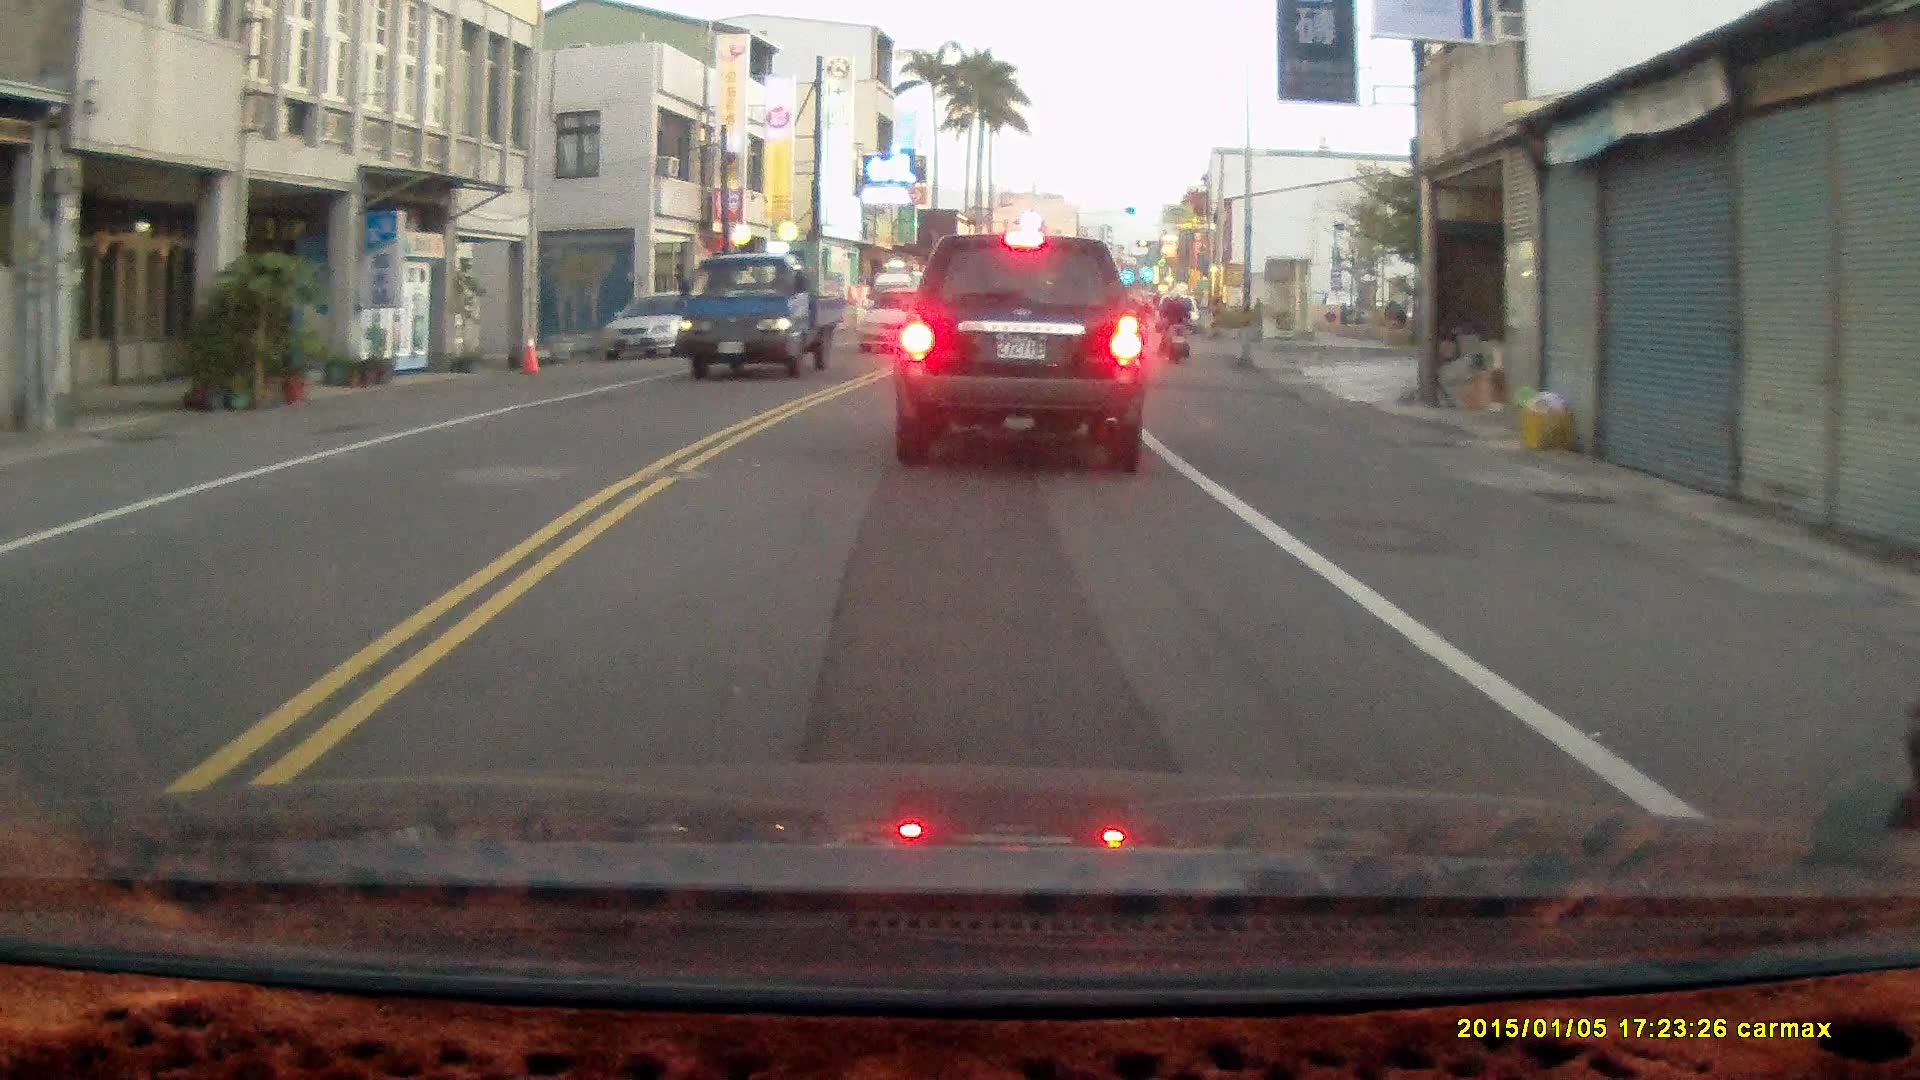rider: (1158, 281, 1189, 363)
vehicle: (894, 229, 1152, 471), (677, 248, 845, 380), (590, 289, 735, 363), (857, 283, 942, 355)
